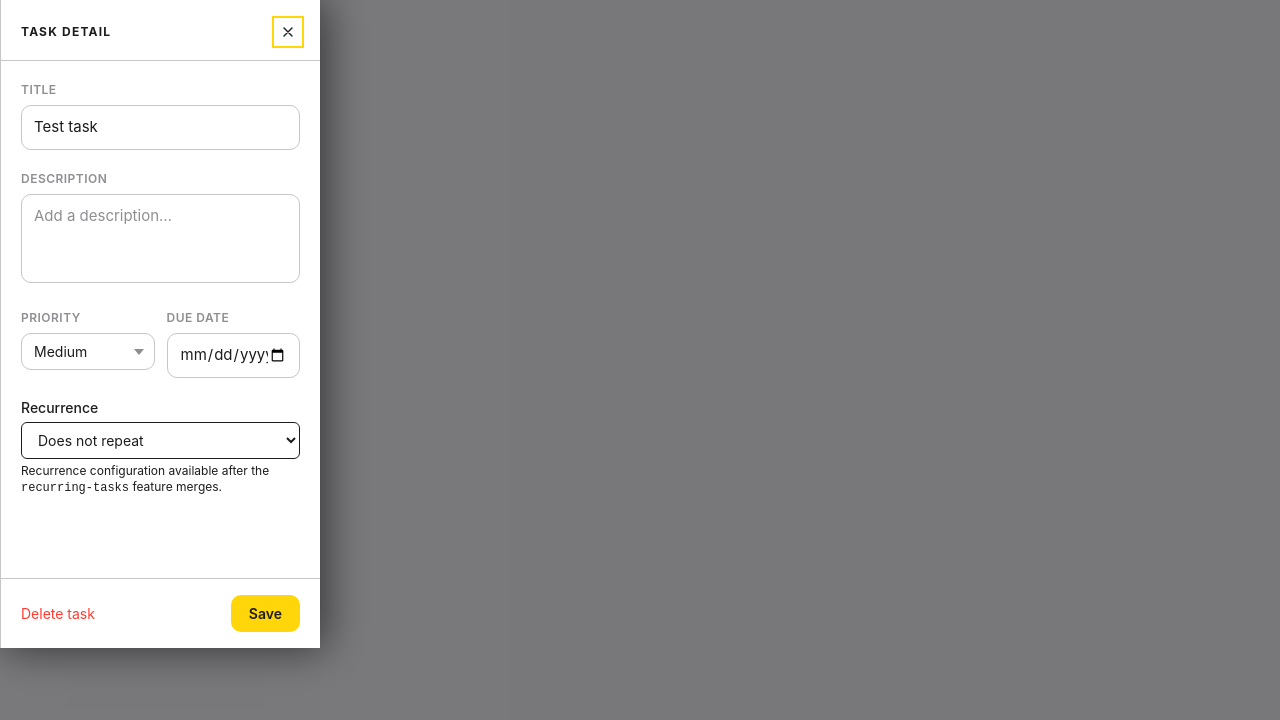
Test: TaskDetailDrawer › shows inline error when Save clicked with empty title
Clear the field showing "Test task" at (160,127), box [21,105,300,150]
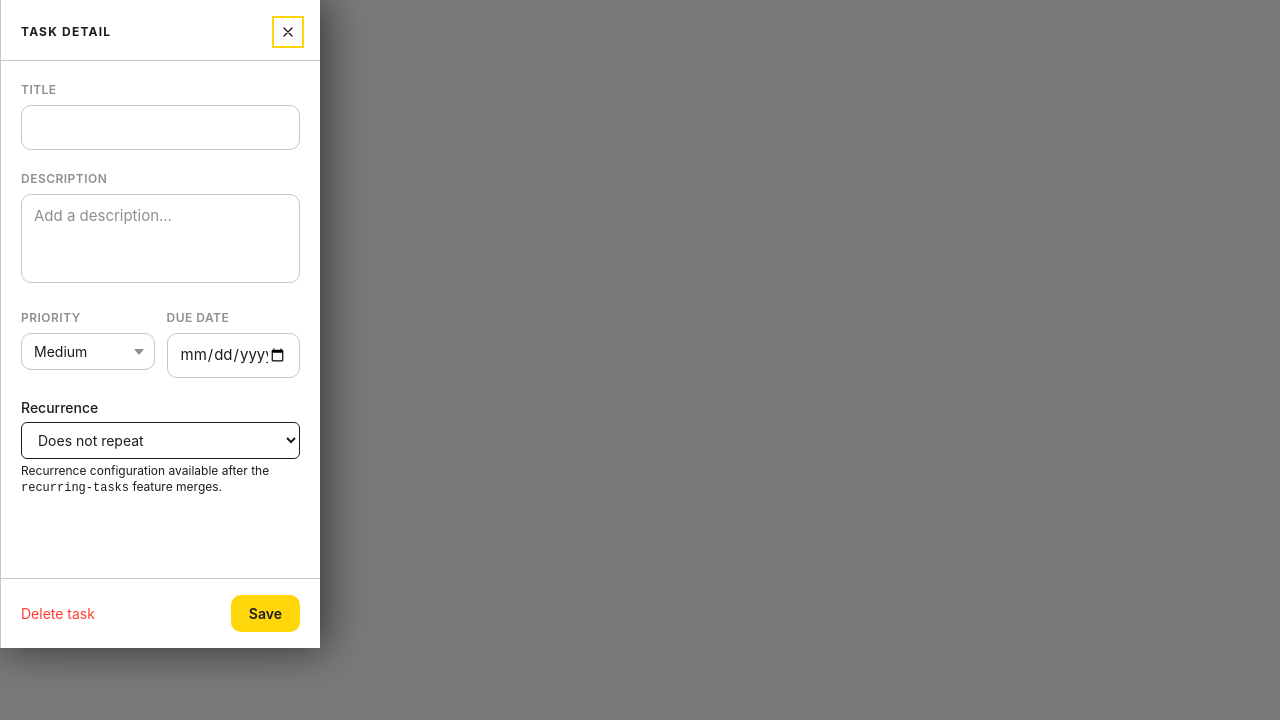
Click the button "Save" at (265,614), box [231,595,300,632]
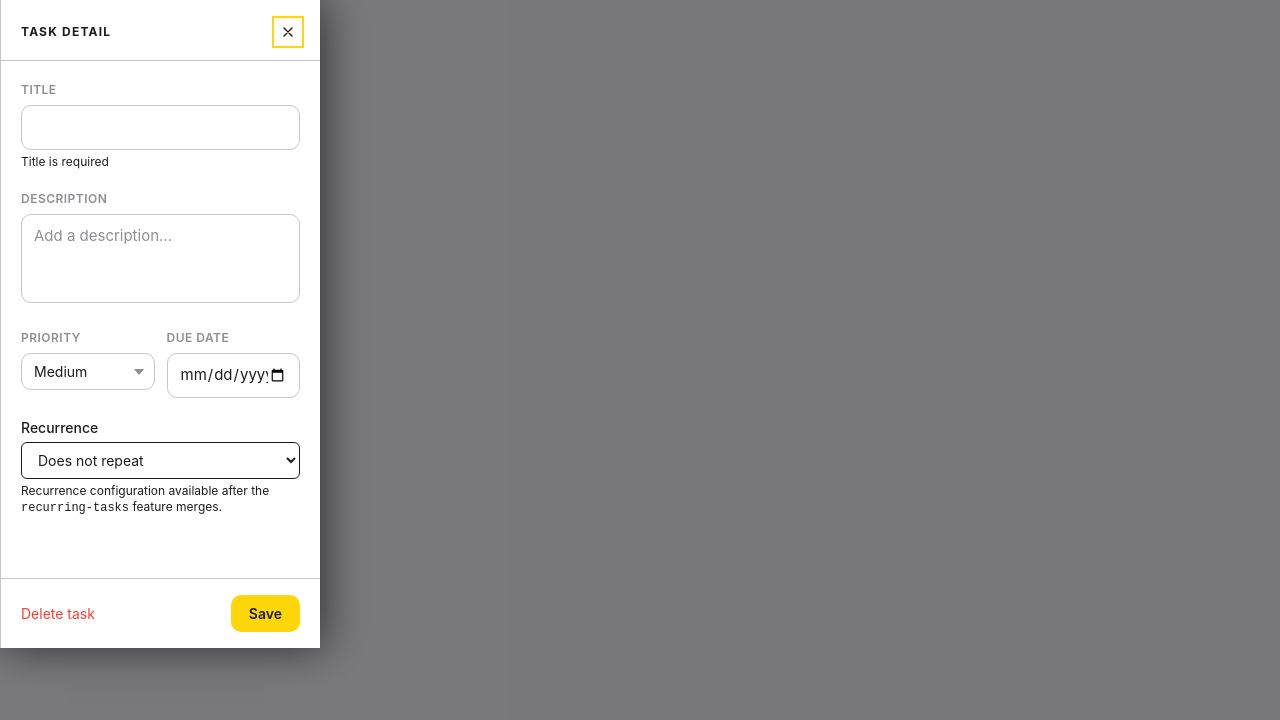
Expected: the text "Title is required" is shown, [21,154,109,168]
